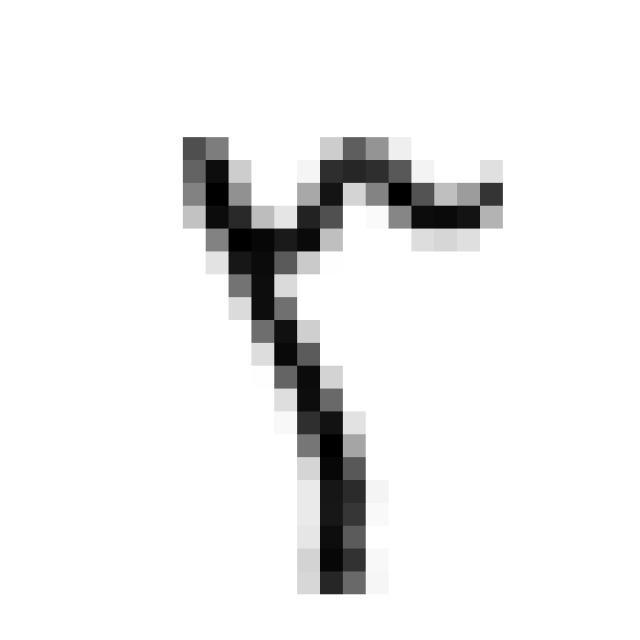3 -three-: (165, 98, 518, 614)
